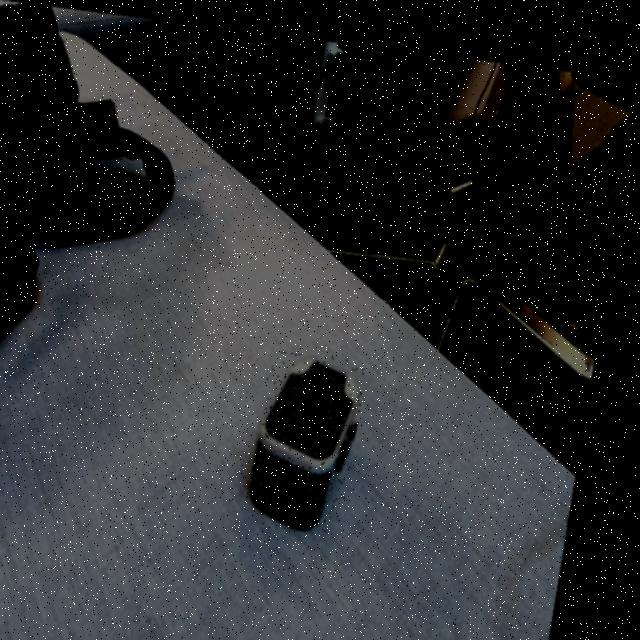adapter: (259, 342, 378, 523)
